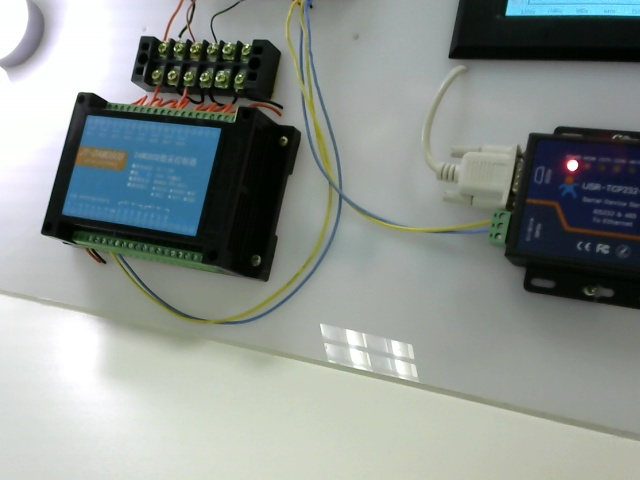relay: (29, 94, 303, 286)
